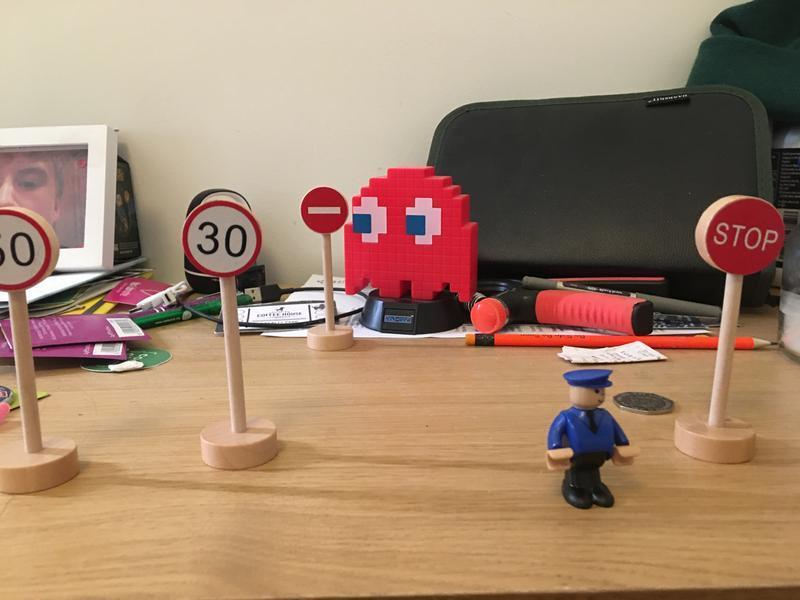Traffic_Sign_30: (183, 203, 261, 276)
Traffic_Sign_No_Entry: (301, 188, 347, 230)
Traffic_Sign_Stop: (705, 198, 782, 274)
person: (540, 365, 641, 516)
